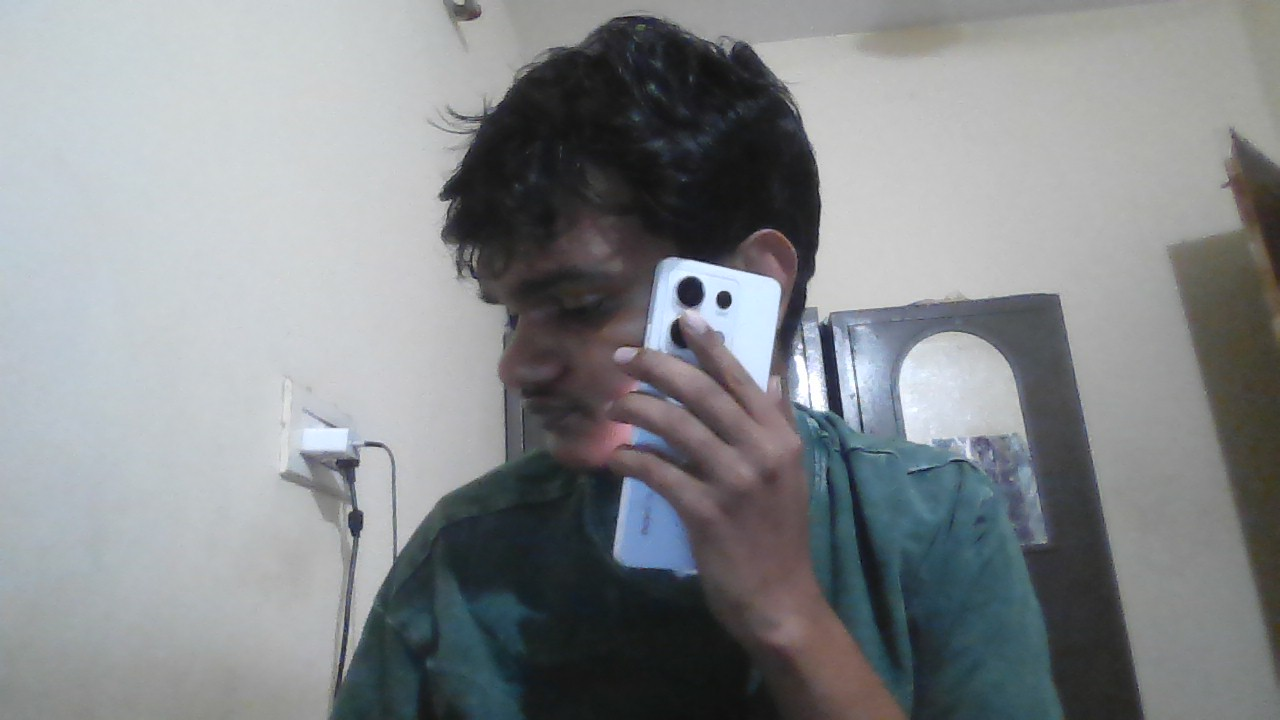phone: (651, 259, 776, 364)
